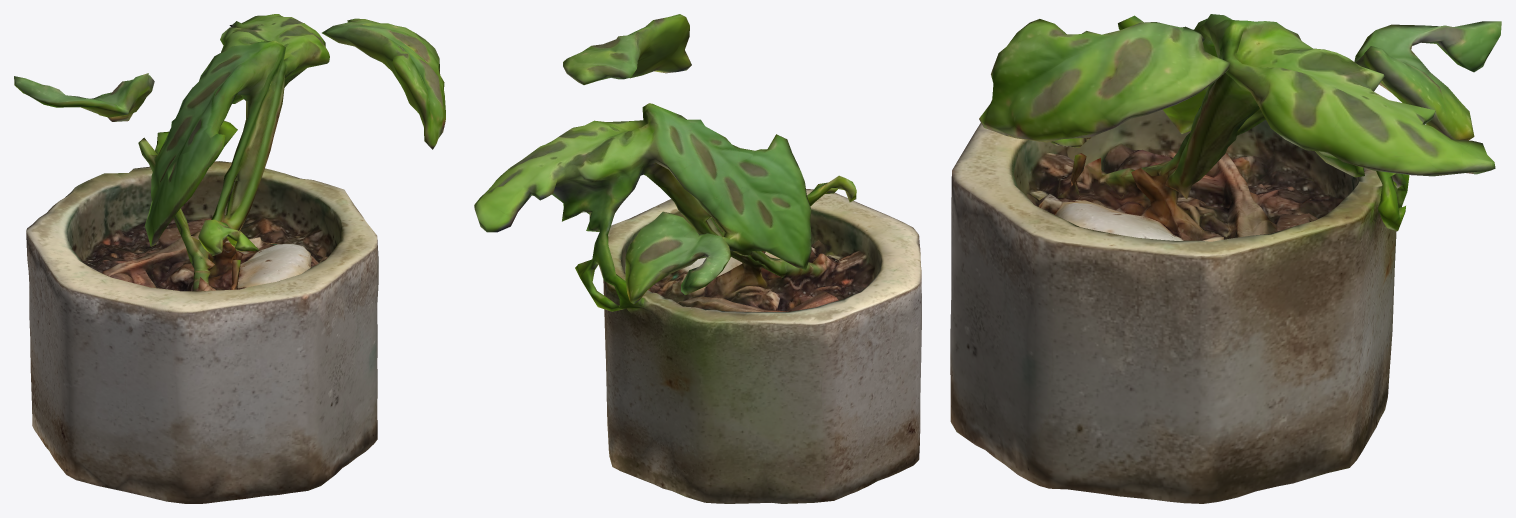
File: plante.gltf
3 renders of one model, left to right at view 1: azimuth 30°, elevation 25°; view 2: azimuth 150°, elevation 25°; view 3: azimuth 270°, elevation 25°, orthographic. The views are drawn at different scales.
Parts seen in each view (by area): view 1: MONSTERA_SMALL_5K; view 2: MONSTERA_SMALL_5K; view 3: MONSTERA_SMALL_5K.
Part boxes in pixels (x1,y1,x2,y2): MONSTERA_SMALL_5K: (14, 14, 445, 503); MONSTERA_SMALL_5K: (474, 14, 921, 503); MONSTERA_SMALL_5K: (950, 14, 1501, 503).
Size of the model in its own units: 0.1597 by 0.1557 by 0.1619.
Materials: 1 (1 with a texture image).
